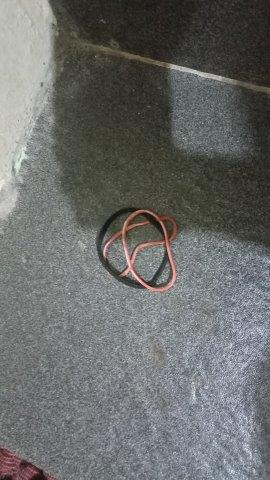karet: (97, 207, 179, 292)
